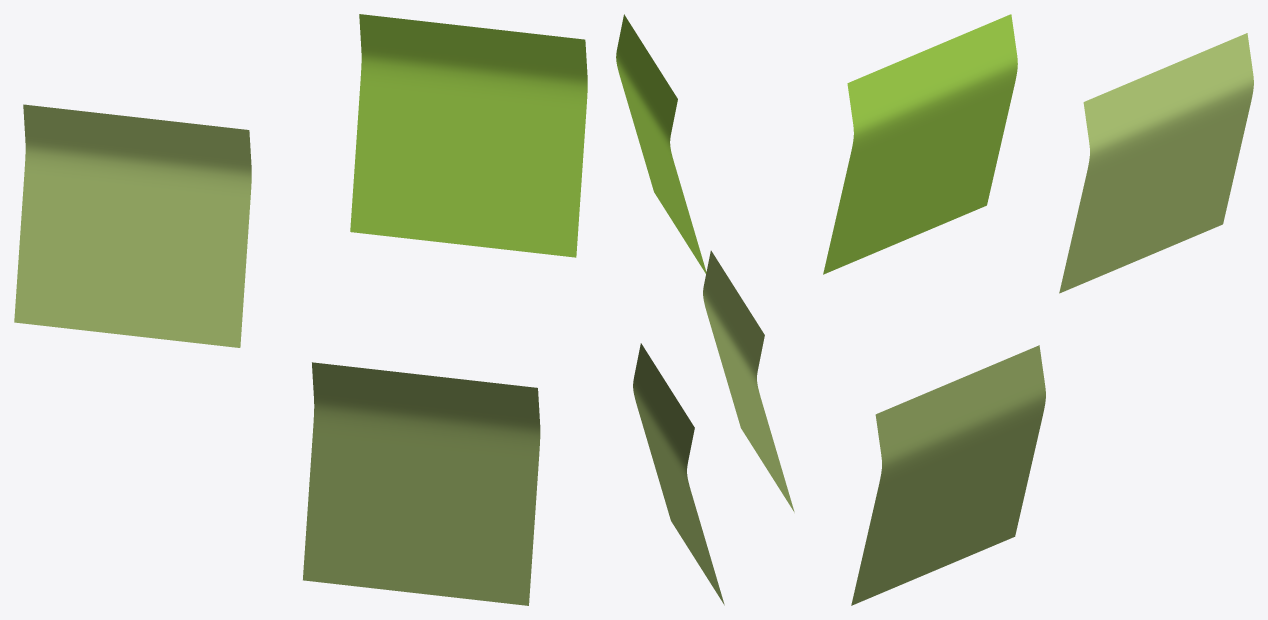
File: Stickies.glb
3 views of the same model, side by side, from view 1: azimuth 30°, elevation 25°; view 2: azimuth 150°, elevation 25°; view 3: azimuth 270°, elevation 25° (orthographic). The views are drawn at different scales.
Visible parts, largest first — view 1: pPlane4, pPlane3, pPlane5; view 2: pPlane4, pPlane5, pPlane3; view 3: pPlane4, pPlane3, pPlane5.
Boxes of the visible parts, bbox=[...] form: pPlane4: bbox=[350, 14, 587, 257]; pPlane3: bbox=[14, 104, 251, 347]; pPlane5: bbox=[303, 362, 540, 605]; pPlane4: bbox=[616, 14, 706, 273]; pPlane5: bbox=[633, 343, 724, 605]; pPlane3: bbox=[703, 250, 794, 512]; pPlane4: bbox=[823, 14, 1017, 274]; pPlane3: bbox=[1059, 33, 1253, 293]; pPlane5: bbox=[851, 345, 1045, 605].
Size of the model in its own units: 37.55 by 51.39 by 36.55.
